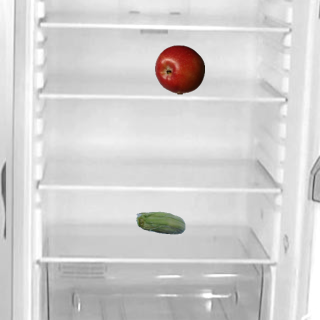Apple Braeburn: (154, 44, 204, 94)
Corn Husk: (135, 199, 185, 249)
